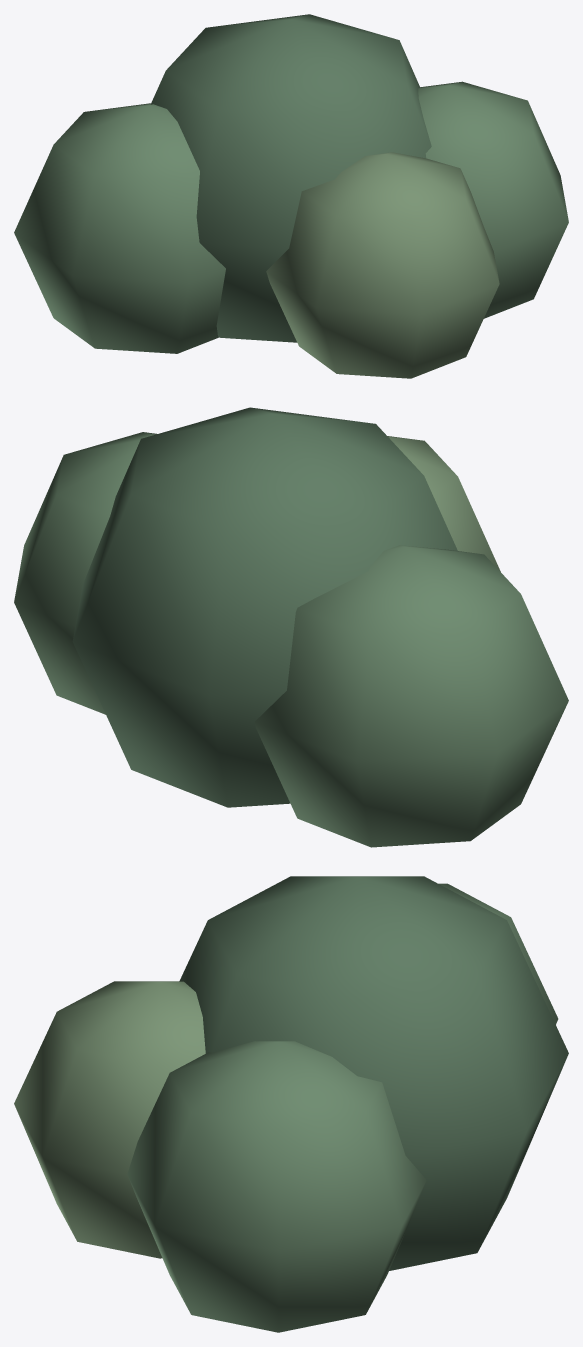
The model's file is arbusto.glb.
The picture shows the model from 3 angles, top to bottom: view 1: azimuth 30°, elevation 25°; view 2: azimuth 150°, elevation 25°; view 3: azimuth 270°, elevation 25°; orthographic projection. The views are drawn at different scales.
Visible parts, largest first — view 1: arbusto; view 2: arbusto; view 3: arbusto.
Boxes of the visible parts, x1,y1,x2,y2 form: arbusto: (14, 14, 568, 378); arbusto: (14, 407, 568, 847); arbusto: (14, 876, 568, 1332).
Bounding box in the file's own units: 1.68 × 1.1 × 1.41.
